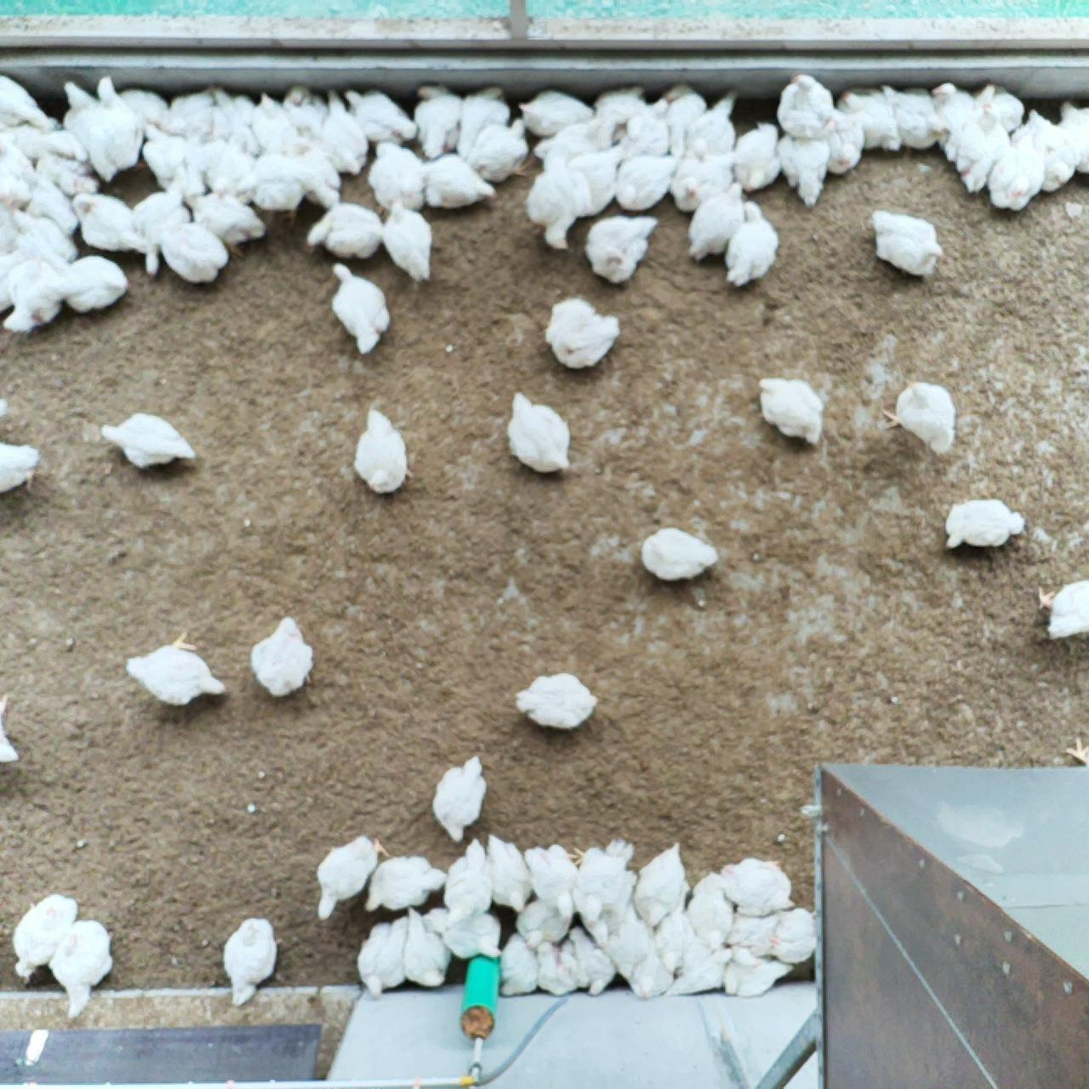chicken: (123, 625, 228, 711), (81, 69, 149, 188), (313, 828, 394, 923), (229, 150, 317, 230), (525, 150, 593, 253), (379, 197, 455, 286), (48, 917, 113, 1020), (565, 837, 640, 926), (543, 294, 625, 373), (128, 180, 193, 279), (8, 892, 79, 982), (100, 409, 198, 474), (221, 914, 286, 1010), (249, 612, 320, 699), (147, 215, 232, 287), (879, 379, 957, 457), (952, 99, 1012, 200), (185, 189, 268, 262), (505, 387, 573, 476), (328, 261, 393, 354), (351, 404, 416, 497), (719, 197, 782, 292), (587, 208, 661, 287), (35, 252, 129, 314), (727, 905, 823, 965), (681, 179, 747, 266), (986, 122, 1046, 215), (429, 753, 488, 847), (631, 838, 691, 930), (1021, 110, 1085, 196), (717, 852, 799, 919), (508, 671, 601, 730), (359, 851, 446, 914), (871, 206, 947, 278), (677, 82, 744, 162), (756, 373, 826, 449), (942, 495, 1029, 556), (529, 113, 610, 178), (66, 193, 148, 257), (306, 199, 389, 262), (314, 83, 369, 178), (832, 83, 902, 157), (339, 86, 416, 152), (880, 79, 951, 150), (363, 135, 429, 211), (1, 254, 64, 333), (576, 867, 638, 947), (418, 152, 499, 213), (521, 839, 581, 921), (462, 114, 533, 183), (440, 837, 494, 927), (175, 132, 253, 194), (19, 163, 82, 239), (637, 524, 718, 583), (566, 139, 625, 220), (670, 147, 737, 217), (608, 150, 681, 214), (411, 78, 467, 161), (775, 132, 833, 211), (9, 202, 81, 265), (686, 869, 740, 953), (396, 908, 450, 992), (355, 914, 410, 996), (481, 833, 536, 915), (515, 87, 598, 141), (928, 79, 976, 172), (452, 85, 512, 157), (655, 81, 711, 158), (199, 85, 258, 158), (288, 135, 344, 211), (588, 86, 651, 153), (773, 73, 836, 140), (424, 905, 502, 959), (247, 90, 303, 164), (604, 902, 655, 983), (560, 923, 615, 997), (618, 93, 676, 162), (29, 146, 101, 201), (722, 947, 795, 1001), (138, 120, 191, 193), (730, 119, 783, 192), (1033, 573, 1089, 642), (665, 943, 734, 999), (0, 70, 62, 131), (817, 104, 867, 179), (0, 118, 92, 158), (60, 77, 101, 162), (0, 134, 42, 213), (650, 909, 698, 977), (515, 896, 575, 949), (280, 82, 330, 143), (10, 226, 69, 277), (496, 934, 543, 997), (625, 940, 676, 997), (1052, 100, 1089, 178), (163, 88, 218, 140), (975, 82, 1026, 136), (535, 939, 580, 997), (111, 84, 169, 128), (0, 437, 43, 496), (163, 163, 210, 215), (182, 101, 234, 146), (0, 688, 22, 770), (0, 242, 23, 315), (0, 198, 23, 261)
